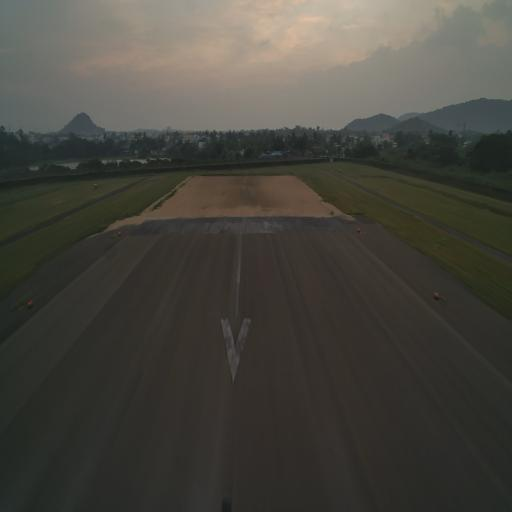on: (26, 295, 34, 312), (431, 288, 440, 302), (116, 226, 124, 240), (355, 224, 362, 236)
